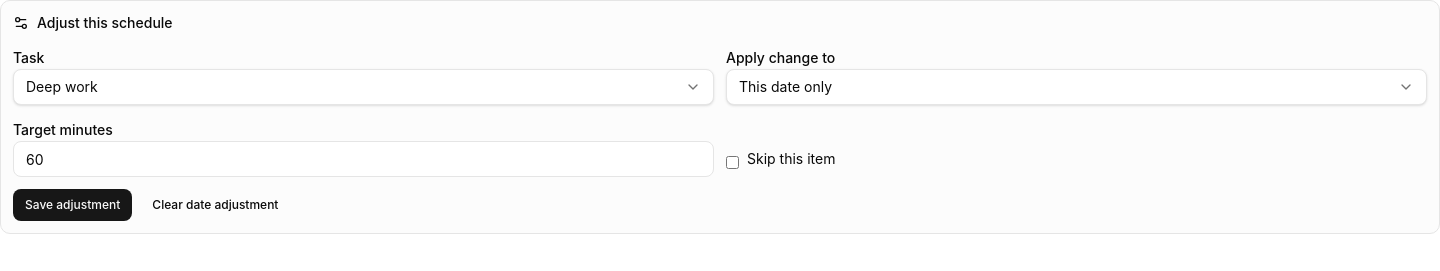
it: localized validation feedback › validates a one-date schedule adjustment inline
Replace the text in the number field labelled "Target minutes" with "0": (364, 159) [13,141,714,177]
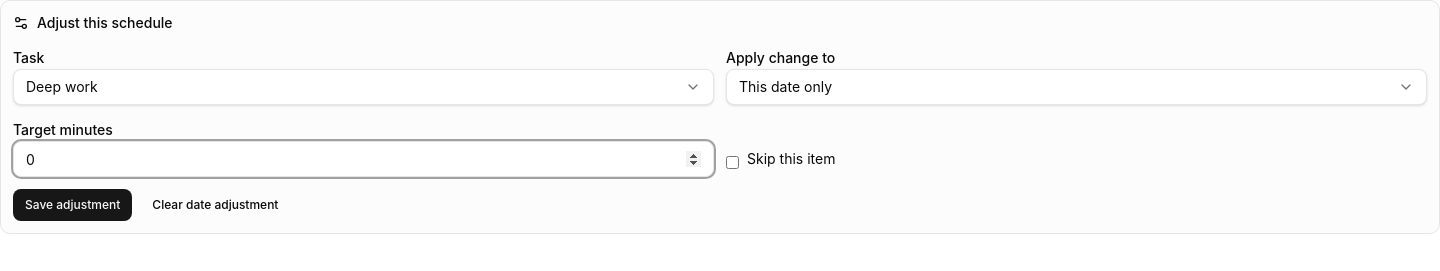
Click the button "Save adjustment": (73, 205) [13,189,132,221]
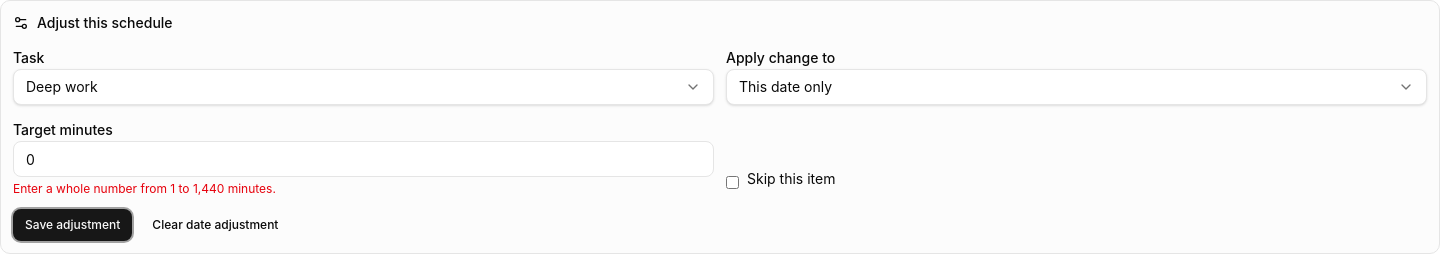
expect the text "Enter a whole number from 1 to 1,440 minutes." is shown: met, box [13,181,276,196]
